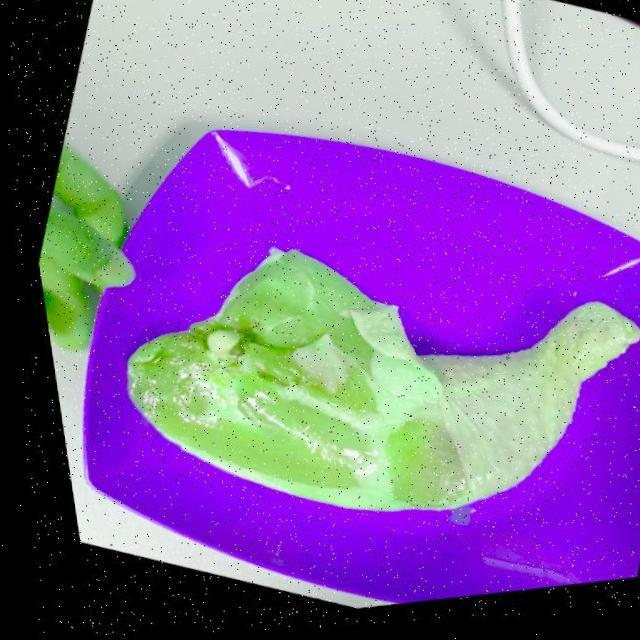quater: (124, 240, 640, 526)
